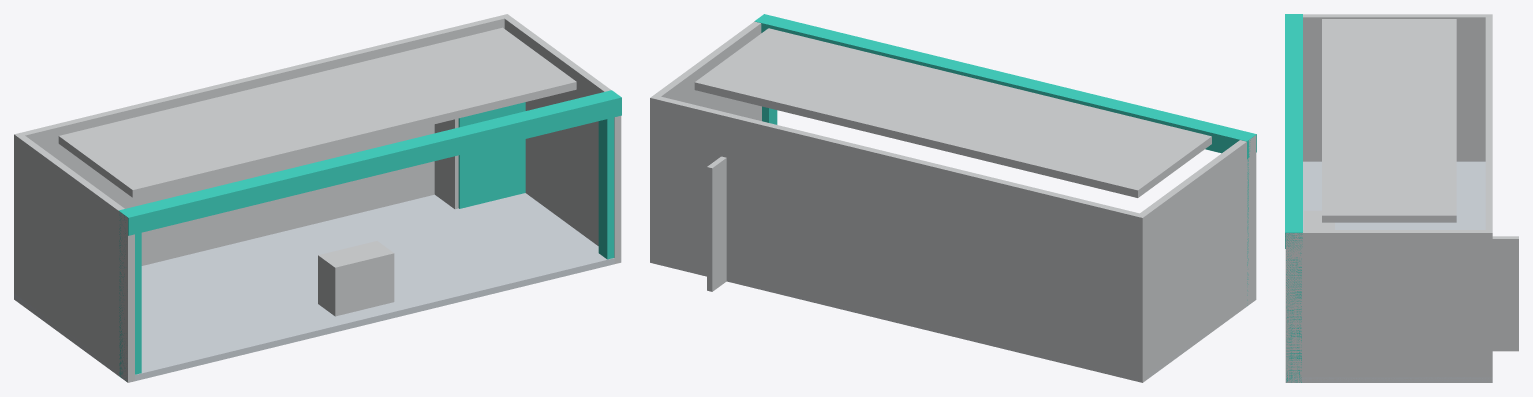
3 renders of one model, left to right at view 1: azimuth 30°, elevation 25°; view 2: azimuth 150°, elevation 25°; view 3: azimuth 270°, elevation 25°, orthographic. The views are drawn at different scales.
Parts seen in each view (by area): view 1: Exhibition Booth Concept; view 2: Exhibition Booth Concept; view 3: Exhibition Booth Concept.
Boxes of the visible parts, left/top/right/bottom form: Exhibition Booth Concept: left=14, top=14, right=621, bottom=382; Exhibition Booth Concept: left=650, top=14, right=1256, bottom=382; Exhibition Booth Concept: left=1285, top=14, right=1518, bottom=382.
Size of the model in its own units: 10 by 3.34 by 4.52.
